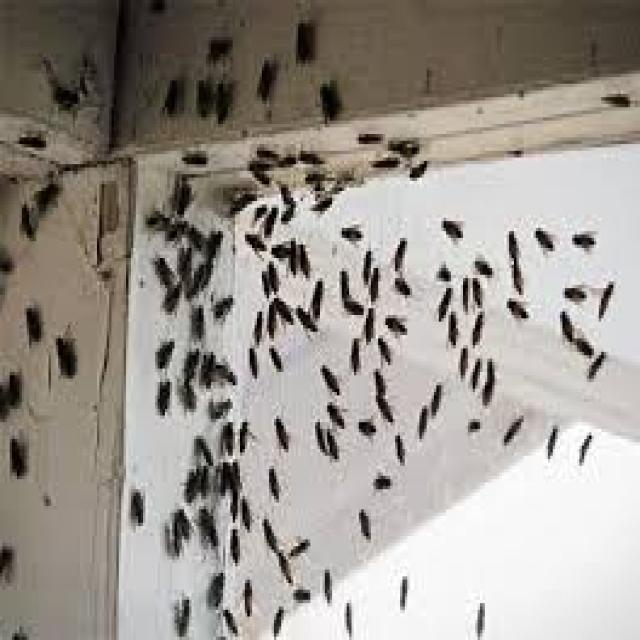fruit fly: (308, 74, 347, 127), (264, 536, 301, 590), (308, 352, 349, 399), (14, 292, 48, 348), (247, 50, 279, 107), (48, 325, 80, 382), (24, 171, 66, 214), (199, 556, 228, 617), (284, 10, 315, 67), (189, 499, 223, 550), (259, 335, 291, 389), (199, 27, 242, 67), (220, 178, 260, 221), (206, 70, 235, 128), (589, 268, 618, 325), (264, 405, 296, 456), (235, 221, 272, 265), (429, 208, 473, 245), (252, 506, 284, 556), (153, 70, 184, 121), (463, 298, 492, 352), (494, 406, 528, 452), (531, 416, 565, 462), (10, 191, 41, 241), (12, 118, 49, 158), (228, 412, 259, 459), (206, 345, 238, 389), (368, 382, 400, 426), (329, 593, 364, 633), (3, 426, 29, 479), (288, 295, 320, 338), (211, 412, 240, 459), (419, 372, 448, 419), (473, 365, 502, 412), (562, 221, 602, 255), (502, 252, 531, 298), (363, 144, 402, 178), (426, 278, 456, 322), (568, 422, 596, 469), (342, 325, 366, 379), (555, 274, 589, 312), (264, 285, 294, 328), (594, 84, 633, 117), (526, 214, 558, 254), (349, 496, 376, 543), (276, 228, 303, 275), (349, 117, 386, 151), (189, 67, 211, 124), (318, 389, 349, 429), (565, 322, 596, 362), (214, 593, 242, 637), (170, 586, 194, 637), (201, 386, 235, 422), (400, 150, 432, 188), (223, 516, 247, 566), (266, 288, 296, 328), (499, 214, 524, 262), (363, 462, 398, 496), (579, 338, 606, 382), (499, 288, 531, 325), (409, 395, 432, 446), (383, 228, 410, 271), (279, 529, 313, 563), (337, 288, 368, 325), (158, 271, 184, 315), (369, 325, 395, 369), (170, 174, 194, 221), (199, 218, 223, 265), (236, 573, 260, 620), (313, 556, 337, 603), (388, 563, 412, 610), (242, 298, 266, 345), (250, 258, 274, 305), (148, 245, 174, 288), (364, 359, 390, 402), (359, 255, 385, 298), (466, 590, 490, 636), (303, 184, 335, 218), (260, 596, 288, 634), (150, 368, 172, 416), (257, 251, 281, 295), (378, 305, 410, 338), (209, 282, 235, 322), (126, 479, 148, 526), (320, 419, 342, 466), (306, 409, 328, 456), (386, 422, 408, 469), (194, 342, 218, 385), (260, 456, 284, 499), (254, 198, 278, 241), (463, 349, 487, 392), (463, 265, 487, 308), (332, 214, 366, 244), (180, 456, 202, 502), (189, 426, 216, 462), (211, 452, 233, 496), (150, 328, 174, 368), (238, 338, 262, 378), (269, 144, 301, 174), (240, 150, 274, 178), (291, 140, 325, 168), (2, 362, 24, 405), (172, 235, 194, 278), (354, 238, 376, 281), (552, 302, 574, 345), (293, 231, 313, 278), (284, 576, 315, 606), (441, 302, 461, 348), (187, 295, 206, 342), (475, 352, 502, 385), (180, 338, 202, 378), (332, 258, 354, 298), (388, 265, 414, 298), (250, 138, 278, 168), (458, 409, 485, 439), (168, 506, 185, 553), (245, 158, 271, 188), (352, 412, 378, 442), (233, 490, 252, 530), (172, 499, 189, 543), (174, 148, 211, 168), (180, 372, 197, 412), (454, 338, 471, 378), (454, 268, 471, 308), (432, 254, 454, 284), (184, 251, 201, 288), (245, 194, 267, 221)
